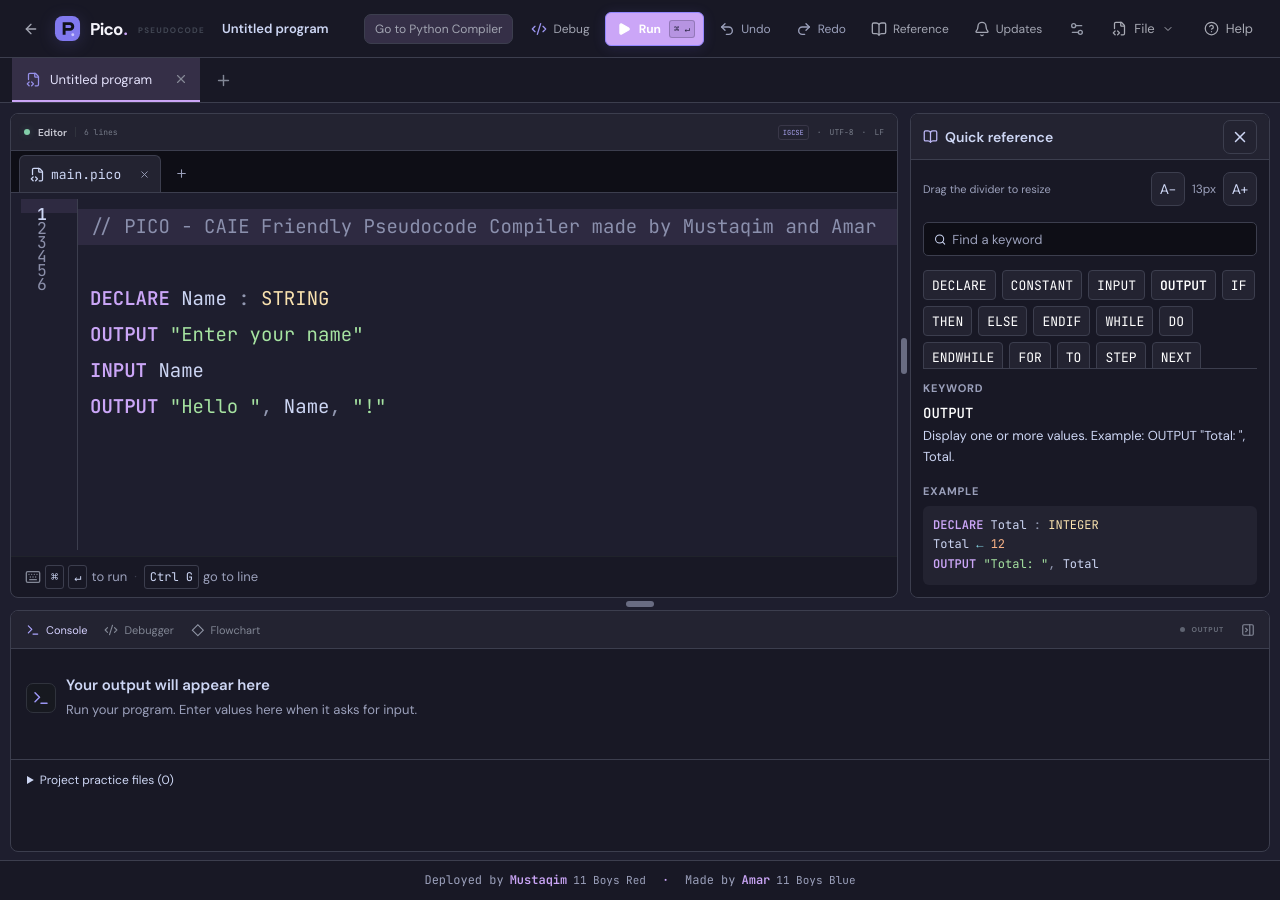
Test case: workspace execution integration › shows stopped debug runs in the Console instead of an empty debugger
The width and height of the screenshot is (1280, 900).
What coordinates should you click on to do the following:
click the button "Debug"
I would click on:
 (561, 28)
Its box is [522,12,600,46].
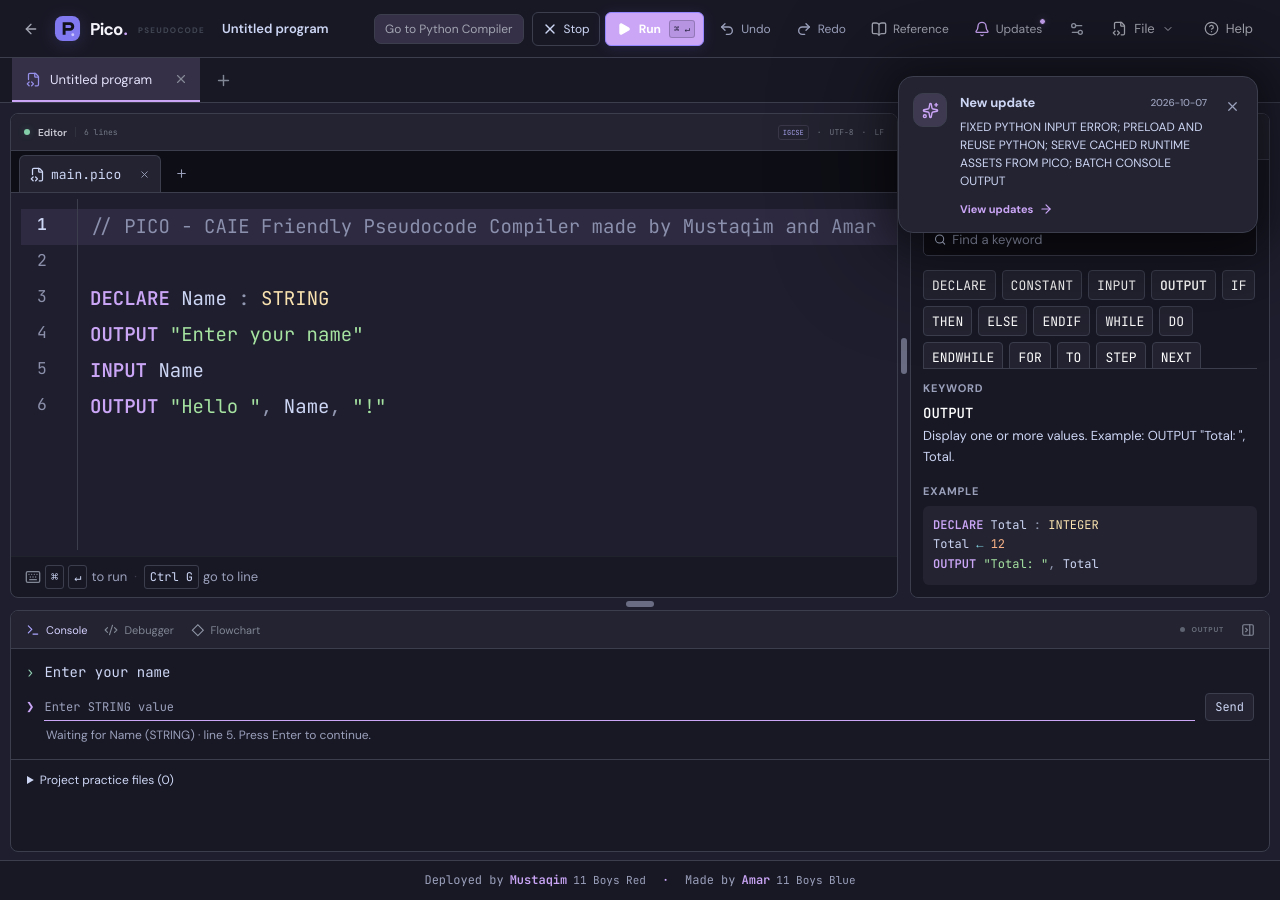
What coordinates should you click on to do the following:
click the button "Stop"
I would click on:
 (566, 28)
Its box is [532,12,600,46].
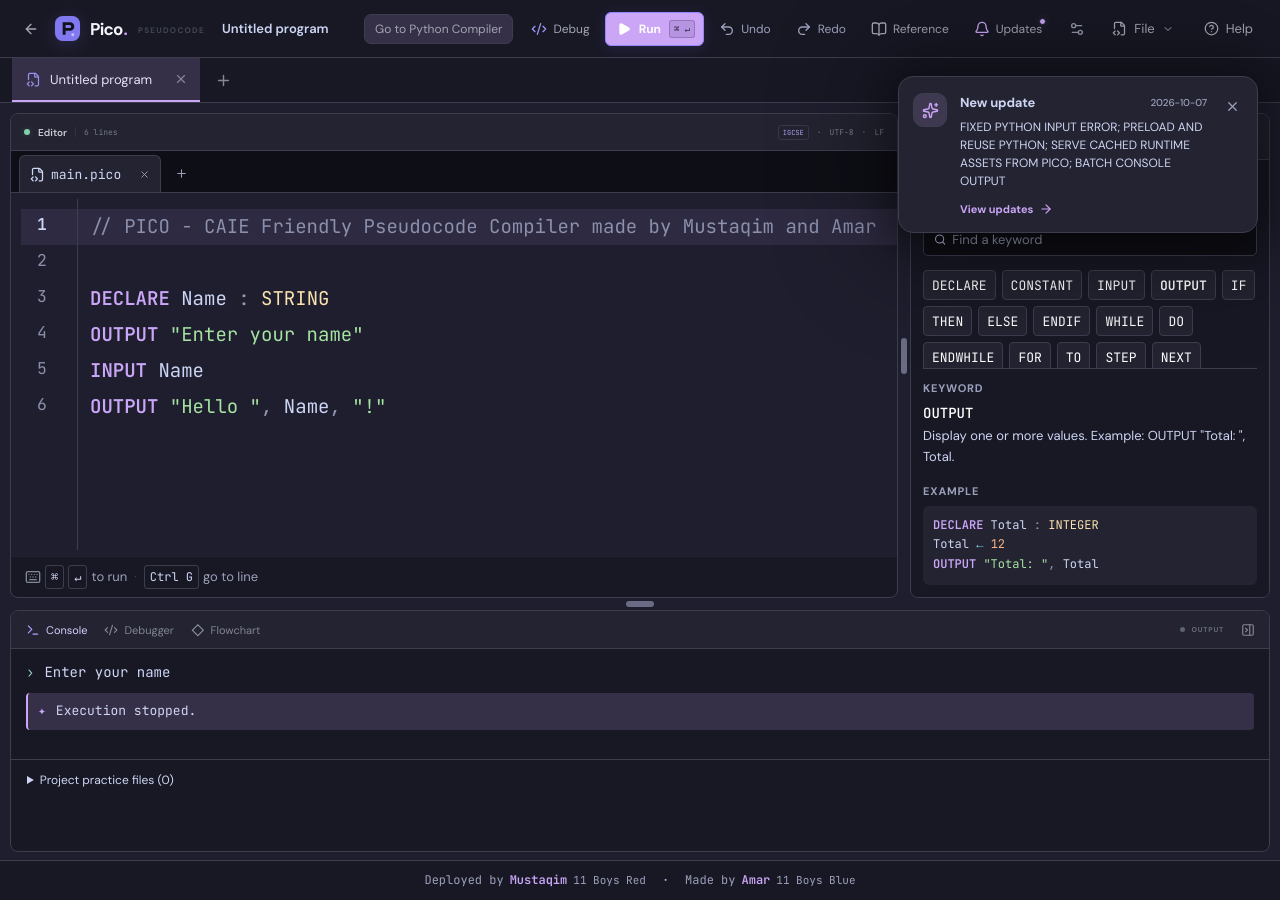
Result: the form with class "console-input-form" is gone
Result: the element with class "console-entry-note" shows "Execution stopped." at [56,702,196,719]
